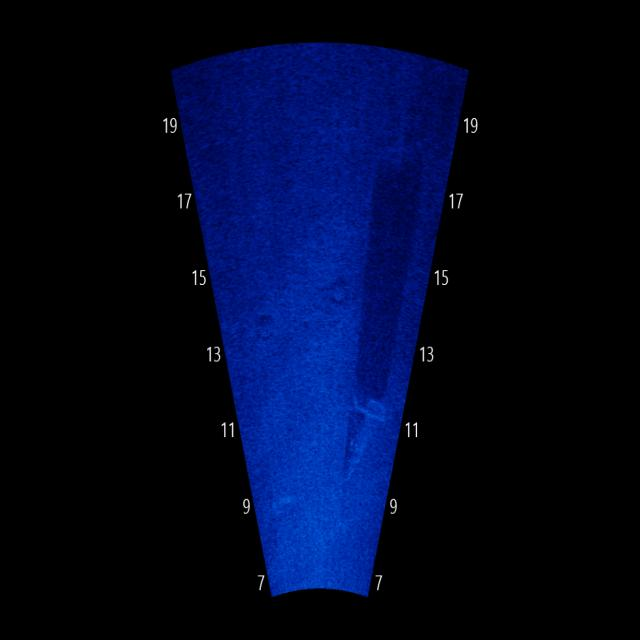circle: (319, 267, 356, 308), (253, 307, 279, 349)
triangle: (341, 380, 393, 488)
